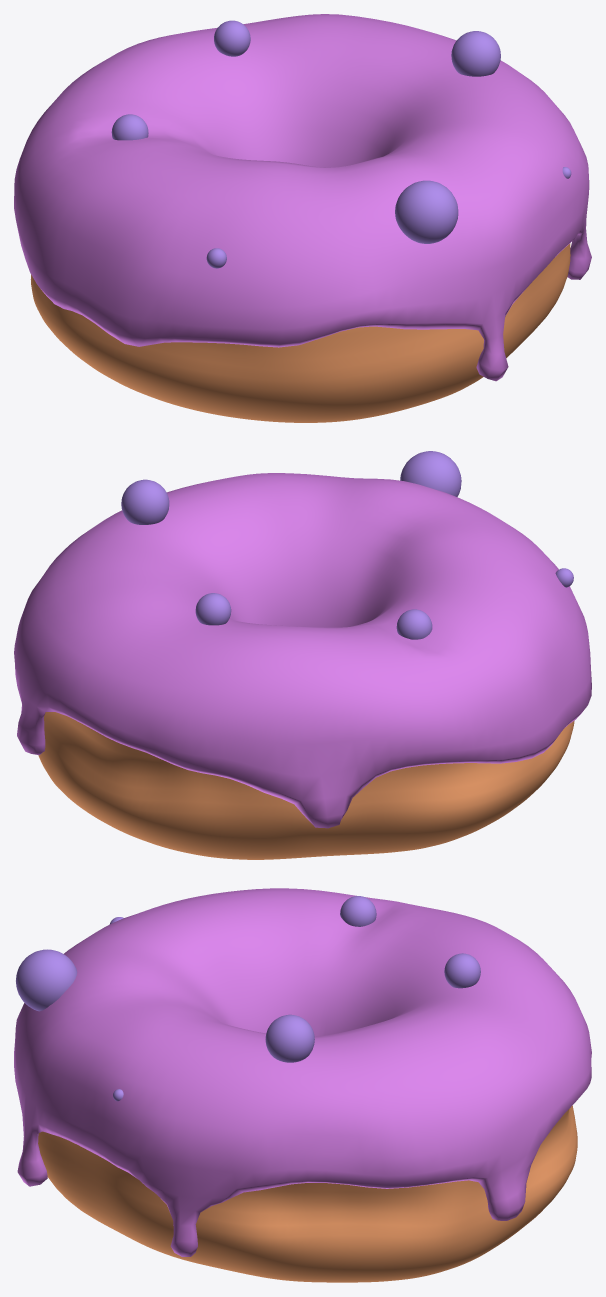
The model's file is donutsprinklesFull.gltf.
3 renders of one model, top to bottom at view 1: azimuth 30°, elevation 25°; view 2: azimuth 150°, elevation 25°; view 3: azimuth 270°, elevation 25°, orthographic. The views are drawn at different scales.
Visible parts, largest first — view 1: icing, donut, Sphere.006, Sphere.001, Sphere.003, Sphere.002; view 2: icing, donut, Sphere.006, Sphere.001, Sphere.003, Sphere.002; view 3: icing, donut, Sphere.006, Sphere.001, Sphere.003, Sphere.002.
Boxes of the visible parts, x1,y1,x2,y2 form: icing: [14, 14, 591, 381]; donut: [30, 243, 570, 422]; Sphere.006: [395, 180, 458, 243]; Sphere.001: [451, 31, 500, 76]; Sphere.003: [214, 20, 250, 56]; Sphere.002: [111, 114, 148, 140]; icing: [14, 473, 591, 828]; donut: [38, 712, 574, 859]; Sphere.006: [400, 451, 461, 496]; Sphere.001: [121, 479, 169, 524]; Sphere.003: [195, 593, 231, 625]; Sphere.002: [396, 609, 432, 639]; icing: [14, 888, 591, 1256]; donut: [38, 1105, 577, 1282]; Sphere.006: [16, 949, 77, 1011]; Sphere.001: [265, 1014, 314, 1062]; Sphere.003: [444, 953, 480, 988]; Sphere.002: [340, 896, 376, 926].
Bounding box in the file's own units: 0.0965 × 0.0492 × 0.0972.
Materials: 3 (1 with a texture image).
